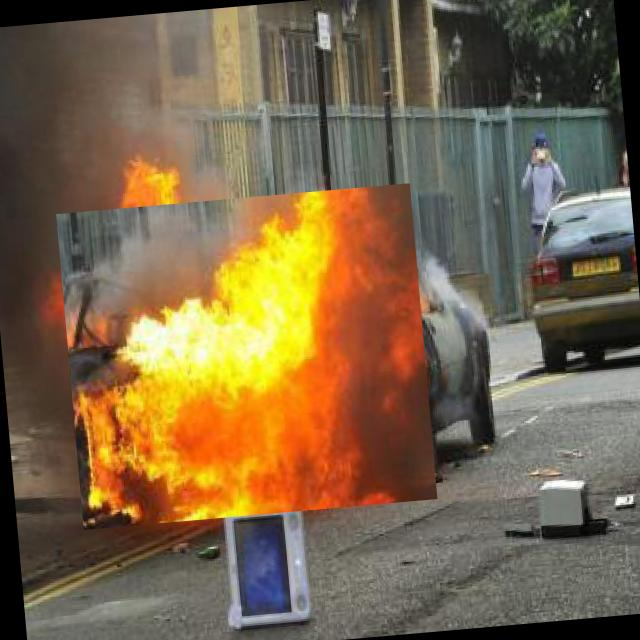fire: (56, 182, 437, 530)
